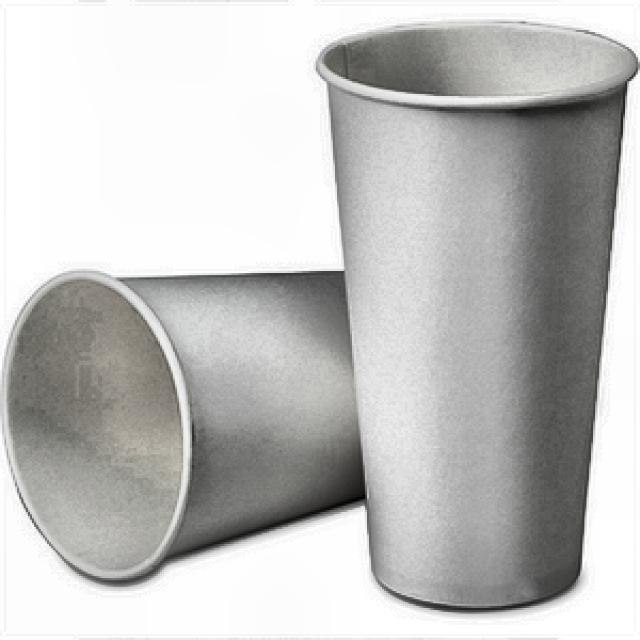Cup: (309, 14, 640, 622), (0, 253, 430, 600)
